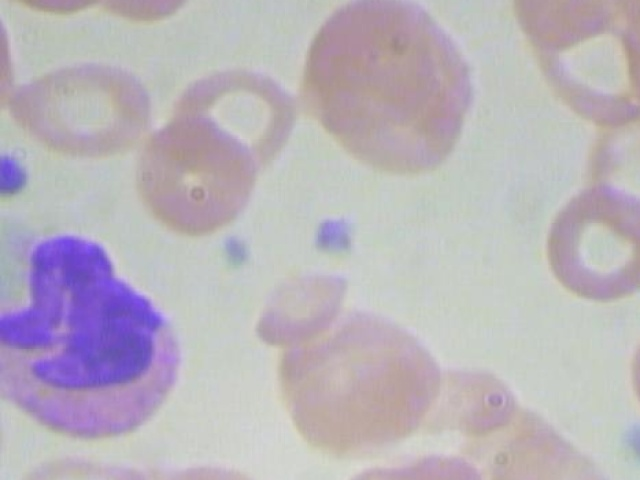Platelets: (296, 208, 360, 267), (0, 139, 32, 206), (606, 416, 640, 466)
RBC: (0, 52, 166, 162), (125, 117, 264, 242), (536, 181, 640, 301), (237, 269, 351, 344), (141, 460, 283, 480)
WBC: (0, 207, 199, 446)
